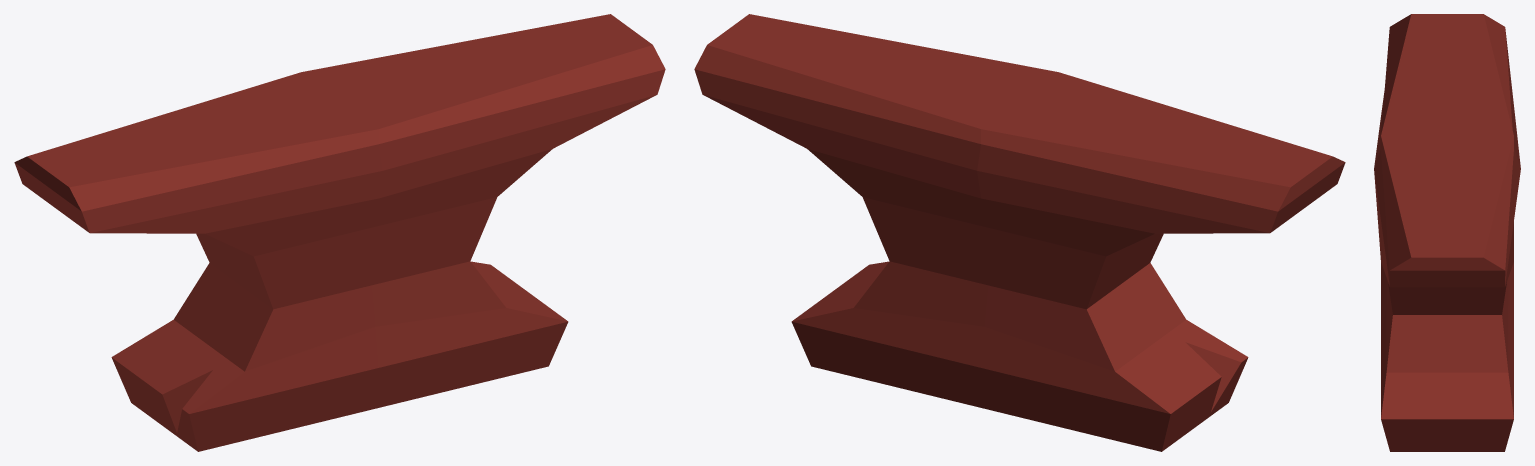
Rendered from Anvil_2_Red.fbx.
3 renders of one model, left to right at view 1: azimuth 30°, elevation 25°; view 2: azimuth 150°, elevation 25°; view 3: azimuth 270°, elevation 25°, orthographic. The views are drawn at different scales.
Parts seen in each view (by area): view 1: Anvil_2_Red; view 2: Anvil_2_Red; view 3: Anvil_2_Red.
Part boxes in pixels (bbox=[...]): Anvil_2_Red: bbox=[14, 14, 665, 451]; Anvil_2_Red: bbox=[694, 14, 1345, 451]; Anvil_2_Red: bbox=[1374, 14, 1520, 451].
Size of the model in its own units: 99.92 by 46.45 by 25.46.
